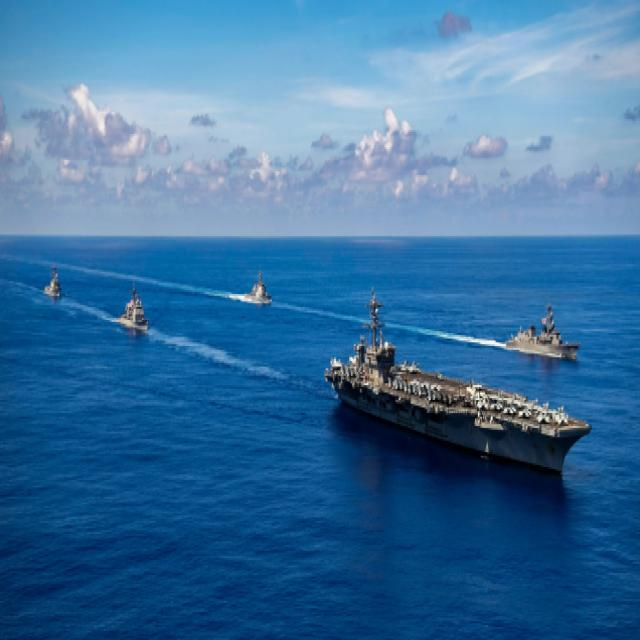navalvessels: (320, 288, 588, 474), (499, 293, 578, 366), (119, 281, 152, 330), (242, 265, 274, 312), (40, 252, 66, 299)
